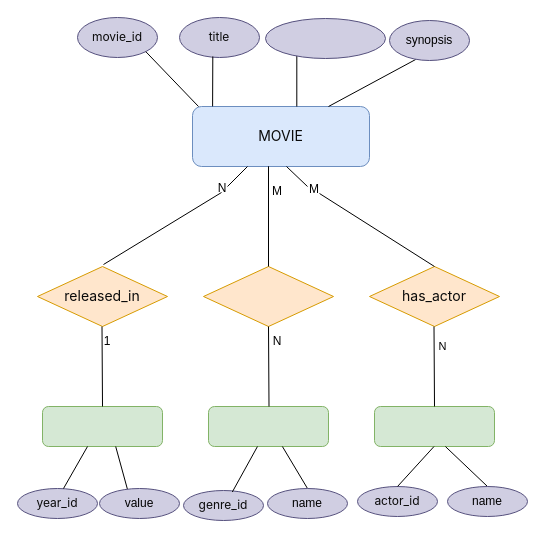
The diagram is 545 pixels wide and 538 high, and some of its shapes have lost their labels. Each missing label, with the centre of its shape:
"ACTOR" goes at (x=434, y=426).
"duration_minutes" goes at (x=325, y=38).
"GENRE" goes at (x=268, y=426).
"has_genre" goes at (x=268, y=296).
"YEAR" goes at (x=102, y=426).
